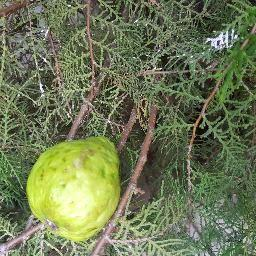guava: (25, 130, 120, 241)
